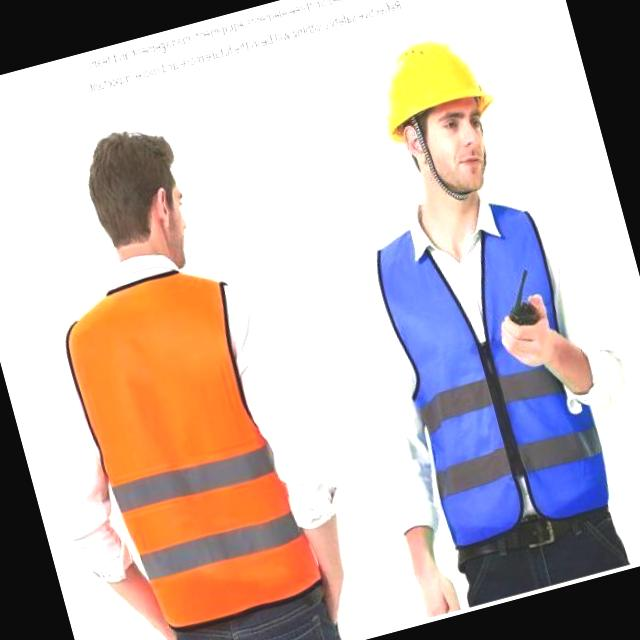vest: (368, 196, 620, 558), (68, 274, 310, 633)
